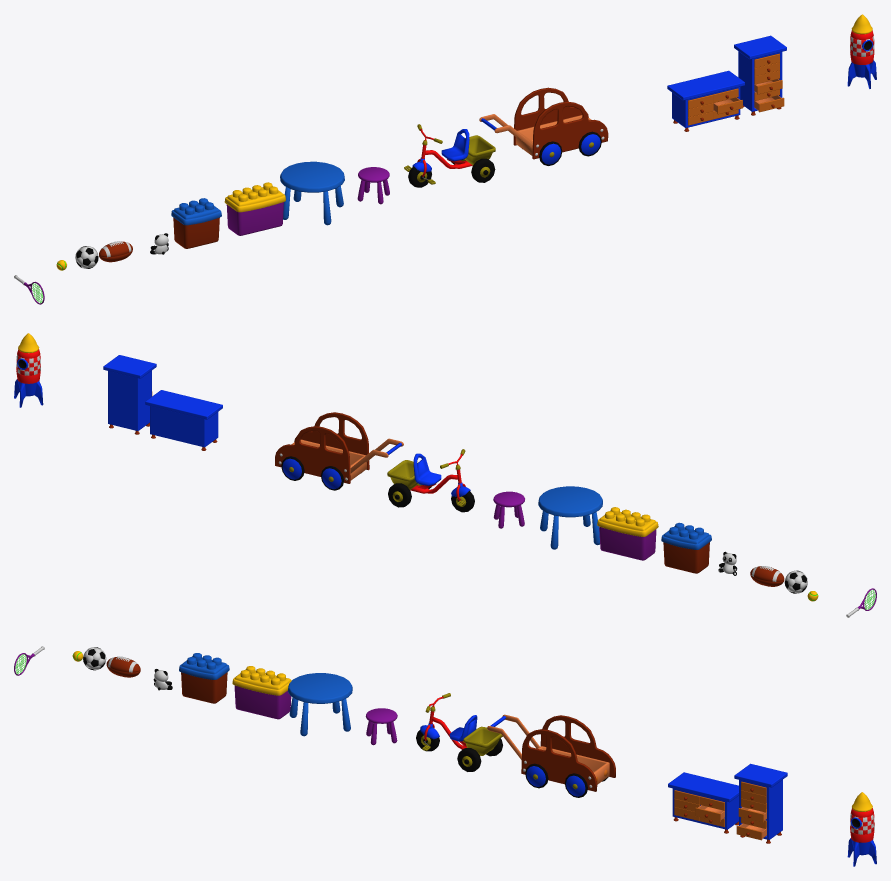
Rendered from New_Toys.FBX.
3 renders of one model, top to bottom at view 1: azimuth 30°, elevation 25°; view 2: azimuth 150°, elevation 25°; view 3: azimuth 330°, elevation 25°, orthographic.
Parts seen in each view (by area): view 1: lorry_01, tricycle_01, table_01, cabinet_low_01, cabinet_tall_01, rocket_01, box_long_bottom_01, box_long_top_01, box_short_bottom_01, box_short_top_01, chair_01; view 2: lorry_01, cabinet_low_01, cabinet_tall_01, tricycle_01, table_01, rocket_01, box_long_bottom_01, box_long_top_01, box_short_bottom_01, box_short_top_01, chair_01, hand_egg_01; view 3: lorry_01, tricycle_01, table_01, cabinet_low_01, cabinet_tall_01, rocket_01, box_long_bottom_01, box_long_top_01, box_short_bottom_01, box_short_top_01, chair_01, hand_egg_01 (+1 smaller).
Part boxes in pixels (x1,y1,x2,y2): lorry_01: [479, 87, 608, 165]; tricycle_01: [404, 124, 495, 187]; table_01: [280, 161, 344, 225]; cabinet_low_01: [667, 70, 744, 131]; cabinet_tall_01: [734, 35, 786, 115]; rocket_01: [847, 14, 876, 88]; box_long_bottom_01: [226, 202, 283, 235]; box_long_top_01: [224, 182, 285, 212]; box_short_bottom_01: [173, 217, 219, 248]; box_short_top_01: [171, 198, 221, 225]; chair_01: [357, 167, 389, 204]; lorry_01: [275, 412, 403, 490]; cabinet_low_01: [145, 390, 222, 450]; cabinet_tall_01: [103, 355, 156, 434]; tricycle_01: [387, 449, 474, 512]; table_01: [538, 486, 602, 549]; rocket_01: [14, 333, 43, 407]; box_long_bottom_01: [599, 526, 656, 560]; box_long_top_01: [597, 507, 658, 536]; box_short_bottom_01: [663, 542, 709, 573]; box_short_top_01: [661, 522, 711, 549]; chair_01: [493, 491, 524, 528]; hand_egg_01: [750, 566, 784, 586]; lorry_01: [487, 714, 615, 797]; tricycle_01: [416, 693, 502, 771]; table_01: [288, 673, 352, 736]; cabinet_low_01: [668, 772, 738, 833]; cabinet_tall_01: [734, 763, 787, 843]; rocket_01: [847, 792, 876, 866]; box_long_bottom_01: [234, 685, 291, 719]; box_long_top_01: [232, 666, 291, 695]; box_short_bottom_01: [181, 672, 227, 703]; box_short_top_01: [179, 653, 229, 679]; chair_01: [365, 708, 397, 745]; hand_egg_01: [106, 656, 140, 677].
Bounding box in the file's own units: 843 × 62.68 × 75.94.
